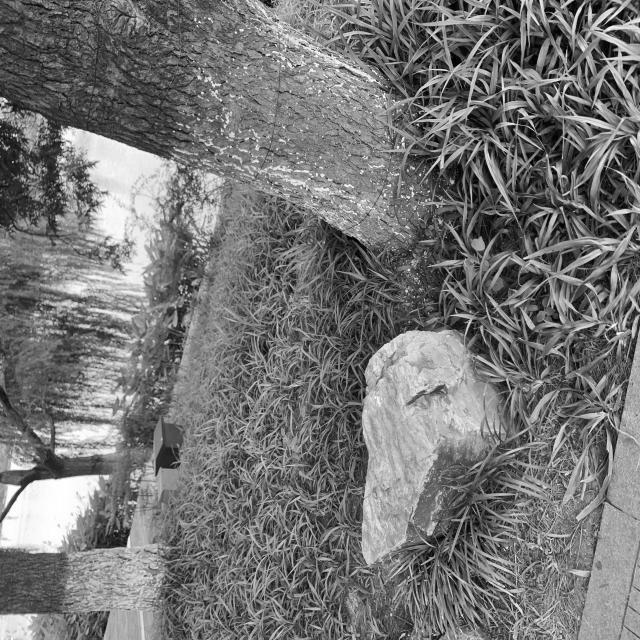Stone: (362, 332, 502, 564)
Tree: (0, 0, 426, 250)
